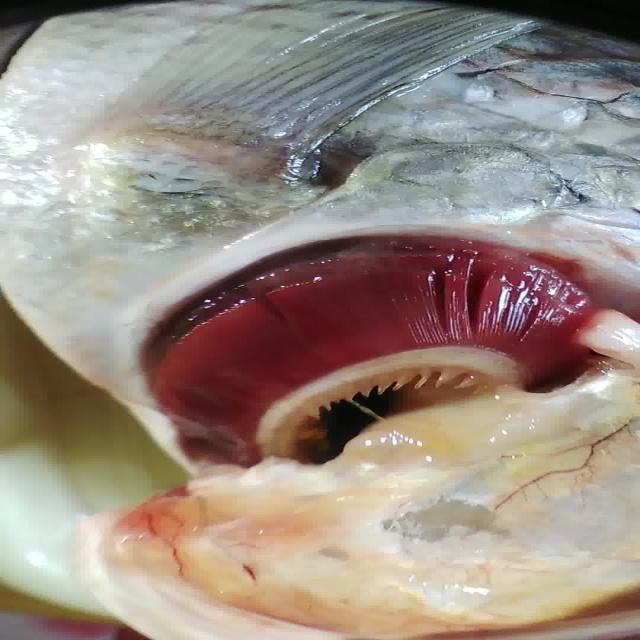Fresh: (115, 226, 632, 414)
